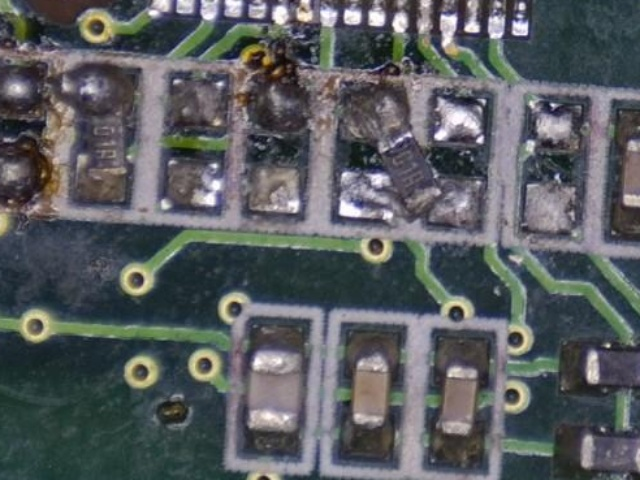pcb_defect: (338, 83, 443, 222), (58, 63, 139, 204), (337, 171, 482, 228)
